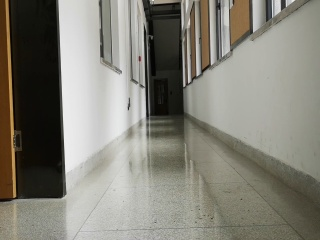room: (2, 1, 70, 202)
